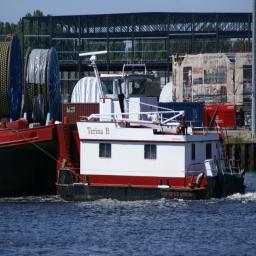tugboat: (54, 49, 249, 203)
